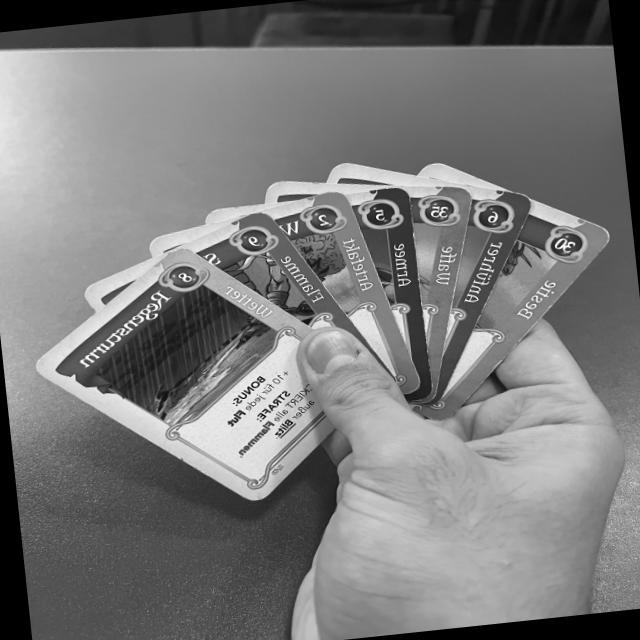Dragon: (435, 202, 615, 422)
Forge: (183, 210, 365, 341)
Queen: (433, 186, 536, 401)
Rainstorm: (27, 245, 335, 504)
Rangers: (344, 186, 433, 385)
War Dirigable: (406, 185, 471, 388)
World Tree: (261, 188, 420, 381)
